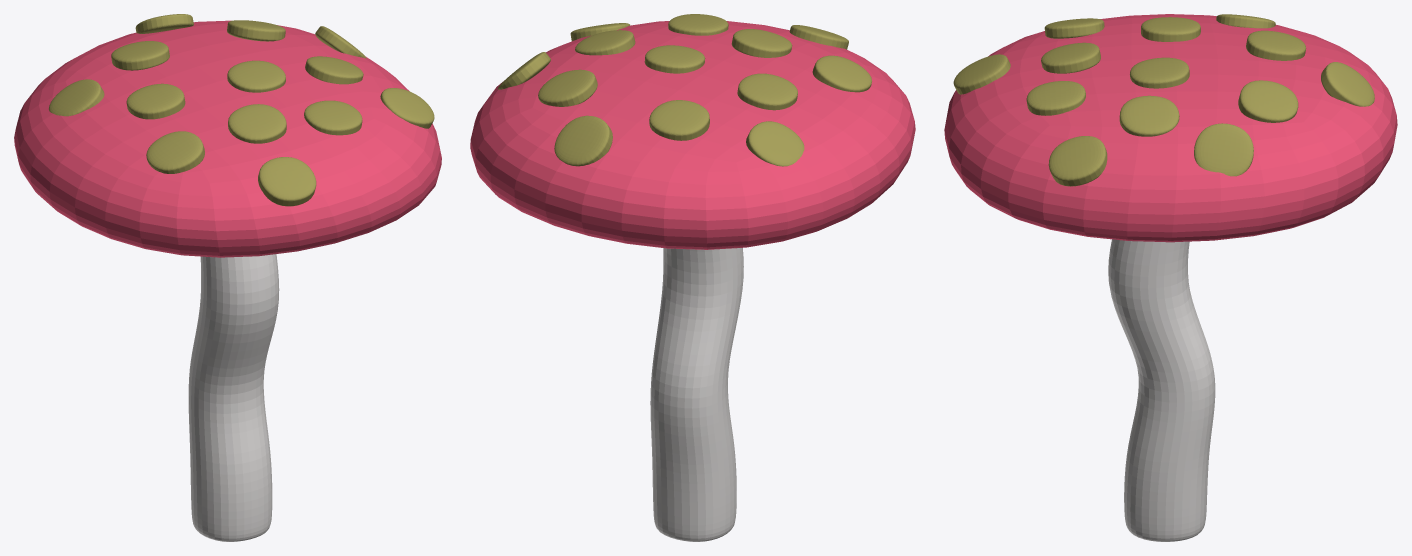
File: Mushroom_Variant1.fbx
The picture shows the model from 3 angles, left to right: view 1: azimuth 30°, elevation 25°; view 2: azimuth 150°, elevation 25°; view 3: azimuth 270°, elevation 25°; orthographic projection. The views are drawn at different scales.
Parts seen in each view (by area): view 1: Mushroom; view 2: Mushroom; view 3: Mushroom.
Boxes of the visible parts, <box> form: Mushroom: <box>14,14,441,541</box>; Mushroom: <box>470,14,915,541</box>; Mushroom: <box>944,14,1397,541</box>.
Size of the model in its own units: 28.06 by 33.91 by 29.32.
